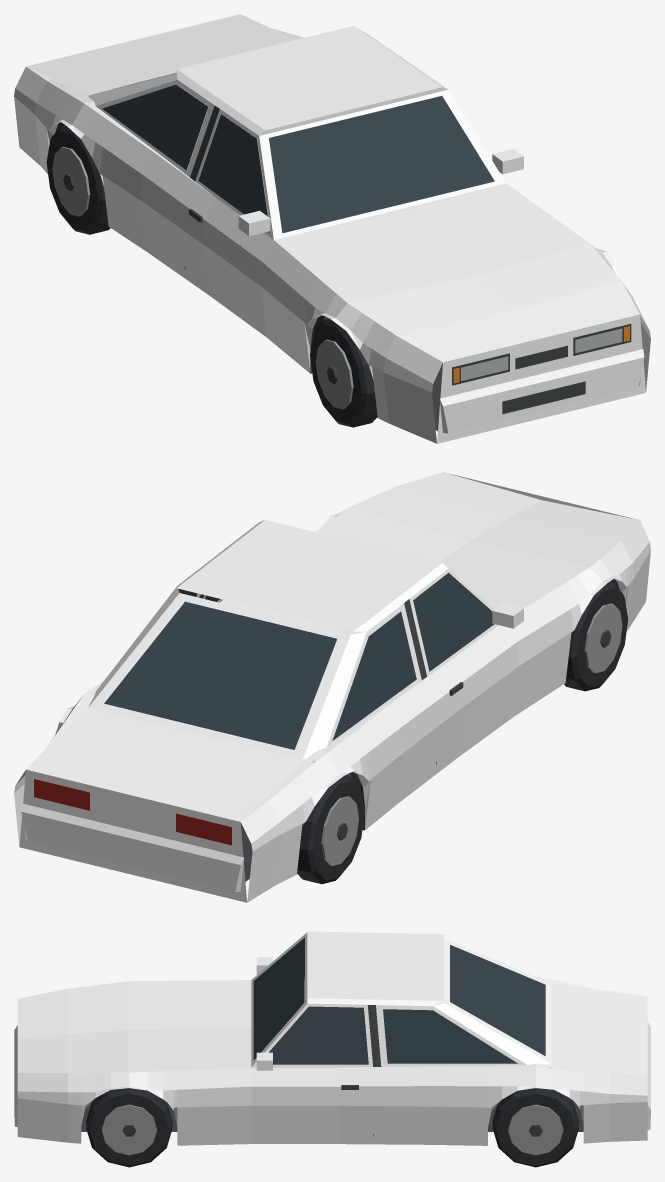
Rendered from kanaya_tomoshibi.glb.
3 views of the same model, one above another, from view 1: azimuth 30°, elevation 25°; view 2: azimuth 150°, elevation 25°; view 3: azimuth 270°, elevation 25° (orthographic). The views are drawn at different scales.
Visible parts, largest first — view 1: kanaya_tomoshibi; view 2: kanaya_tomoshibi; view 3: kanaya_tomoshibi.
Boxes of the visible parts, left/top/right/bottom form: kanaya_tomoshibi: left=14, top=14, right=650, bottom=443; kanaya_tomoshibi: left=14, top=472, right=650, bottom=902; kanaya_tomoshibi: left=14, top=931, right=650, bottom=1167.
Size of the model in its own units: 1.82 by 1.25 by 4.7.
Materials: 8 (1 with a texture image).
